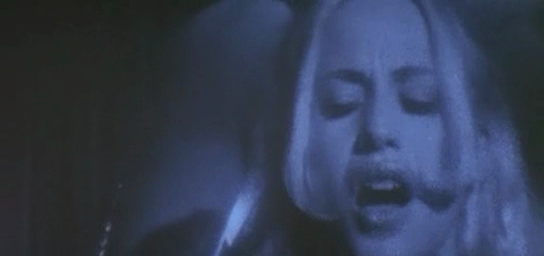ecu: (1, 1, 544, 256)
face: (308, 26, 443, 256)
person: (284, 1, 544, 256)
